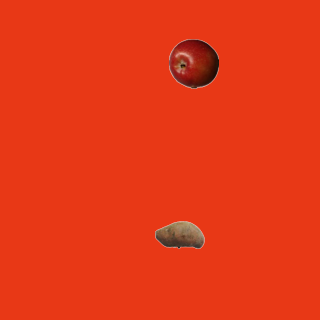Apple Braeburn: (168, 38, 218, 88)
Potato Sweet: (154, 209, 204, 259)
